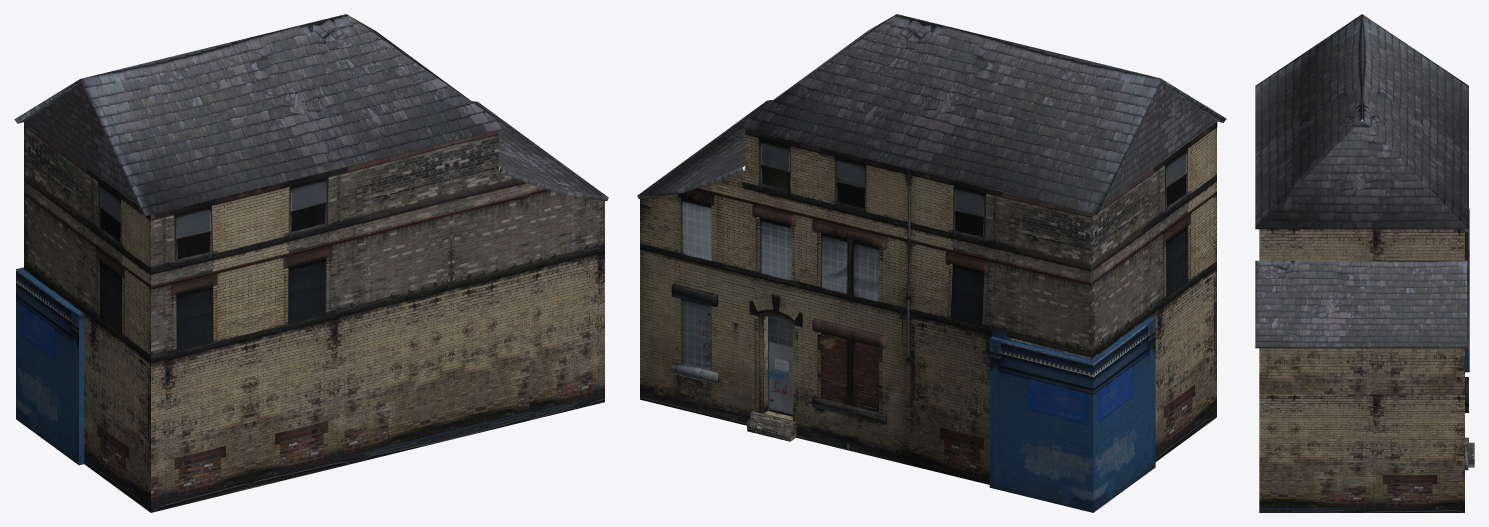
File: building23.obj
The picture shows the model from 3 angles, left to right: view 1: azimuth 30°, elevation 25°; view 2: azimuth 150°, elevation 25°; view 3: azimuth 270°, elevation 25°; orthographic projection. The views are drawn at different scales.
Visible parts, largest first — view 1: building23; view 2: building23; view 3: building23.
Part boxes in pixels (x1,y1,x2,y2): building23: (14,14,608,512); building23: (637,14,1226,512); building23: (1255,14,1474,512).
Size of the model in its own units: 458 by 369 by 232.
1 material, 1 textured.
